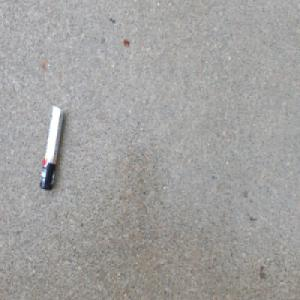Battery: (40, 103, 66, 193)
